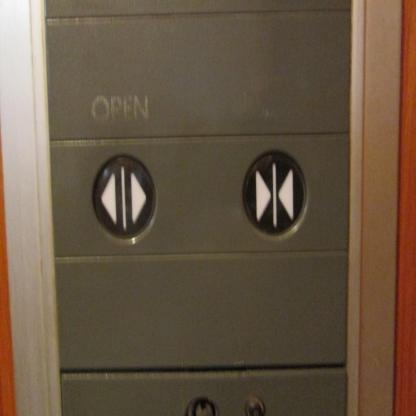close: (238, 145, 310, 242)
open: (87, 149, 160, 246)
